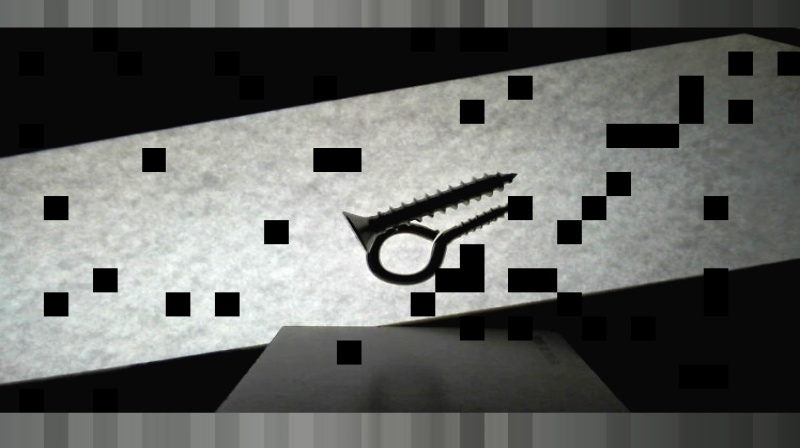O001: (362, 201, 520, 285)
S001: (340, 169, 524, 248)
